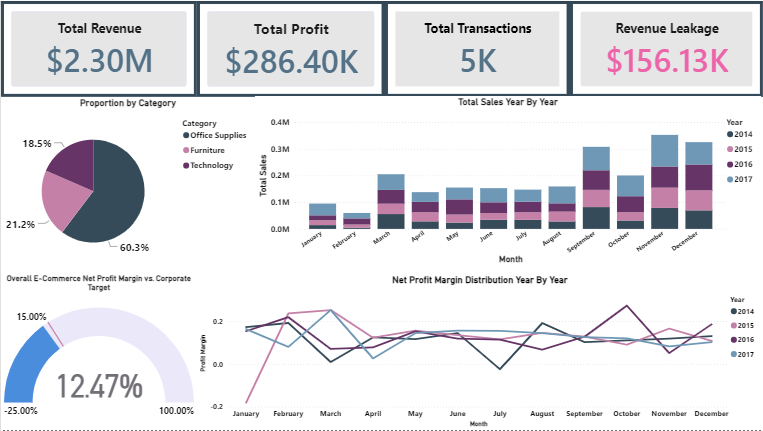

What the dashboard file says about the page in this screenshot:
{"tool":"powerbi","page":{"name":"Page 1","canvas":[1280,720],"ordinal":0},"visuals":[{"type":"cardVisual","fields":{"Data":["Sum(adjusted_commerce_df.Sales)"]},"box":[0,0,329.2,161.3],"z":0},{"type":"cardVisual","fields":{"Data":["adjusted_commerce_df.Revenue Leakage"]},"box":[955.8,0,324.2,161.3],"z":1000},{"type":"cardVisual","fields":{"Data":["Sum(adjusted_commerce_df.Profit)"]},"box":[329.2,0,315.8,161.3],"z":2000},{"type":"cardVisual","fields":{"Data":["Count(adjusted_commerce_df.Order_ID)"]},"box":[645,0,310.8,161.3],"z":3000},{"type":"columnChart","title":"Total Sales Year By Year","fields":{"Y":["Sum(adjusted_commerce_df.Sales)"],"Series":["adjusted_commerce_df.Order_Year"],"Category":["adjusted_commerce_df.Order_Month_Name"]},"box":[426.7,159.6,850,287.2],"z":4000},{"type":"lineChart","title":"Net Profit Margin Distribution Year By Year","fields":{"Category":["adjusted_commerce_df.Order_Month_Name"],"Series":["adjusted_commerce_df.Order_Year"],"Y":["adjusted_commerce_df.Net Profit Margin"]},"box":[329.2,458.6,950.8,262],"z":5000},{"type":"gauge","title":"Overall E-Commerce Net Profit Margin vs. Corporate Target","fields":{"Y":["adjusted_commerce_df.Net Profit Margin"],"TargetValue":["adjusted_commerce_df.Margin_Target"],"MinValue":["adjusted_commerce_df.Min_Margin"]},"box":[0,459,329,261],"z":6000},{"type":"pieChart","title":"Proportion by Category","fields":{"Category":["adjusted_commerce_df.Category"],"Y":["CountNonNull(adjusted_commerce_df.Category)"]},"box":[0,161.3,426.7,287.2],"z":7000}]}

Visuals, with their boxes in screenshot pixels (x1, y1, x2, y2), scaled from the page's 1280x720 canvas onto the 763x431 screenshot:
cardVisual - Sum(adjusted_commerce_df.Sales): 0,0,196,97
cardVisual - adjusted_commerce_df.Revenue Leakage: 570,0,762,97
cardVisual - Sum(adjusted_commerce_df.Profit): 196,0,384,97
cardVisual - Count(adjusted_commerce_df.Order_ID): 384,0,570,97
"Total Sales Year By Year" columnChart: 254,96,761,267
"Net Profit Margin Distribution Year By Year" lineChart: 196,275,762,430
"Overall E-Commerce Net Profit Margin vs. Corporate Target" gauge: 0,275,196,430
"Proportion by Category" pieChart: 0,97,254,268
